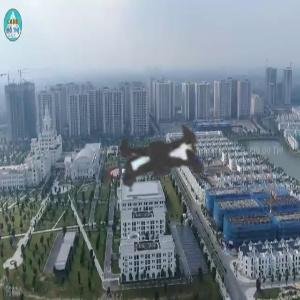drone: (52, 54, 261, 263)
